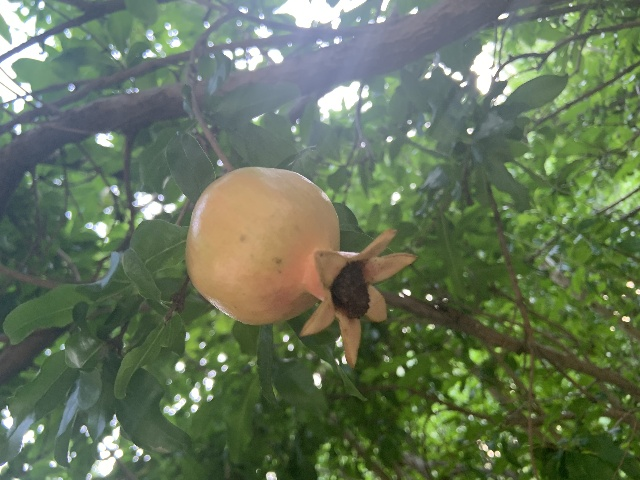early-fruit: (186, 166, 416, 369)
